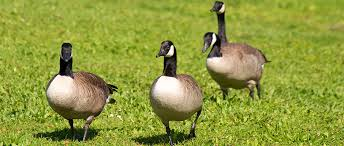goose: (29, 34, 128, 146), (145, 36, 207, 144), (200, 31, 269, 104), (208, 1, 272, 63)
